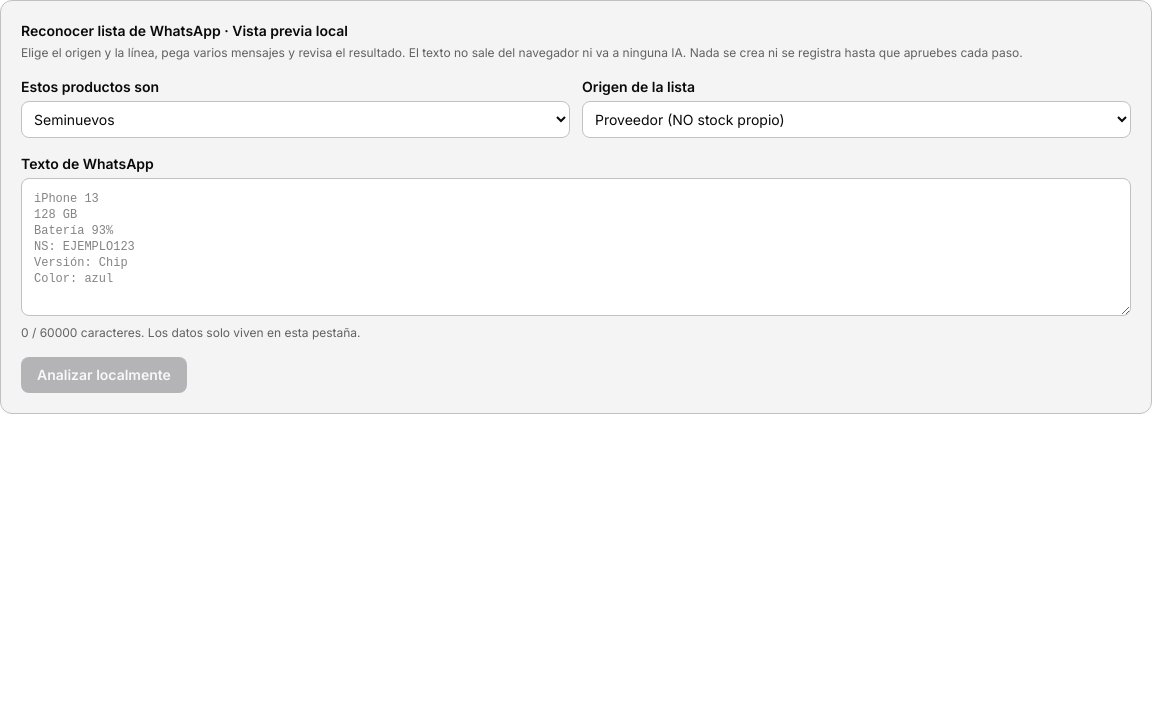
Test case: si varias coinciden, ninguna se elige sola
Select "Nuevos" in the dropdown named "Línea declarada" at [296, 120], box [21,101,570,138]
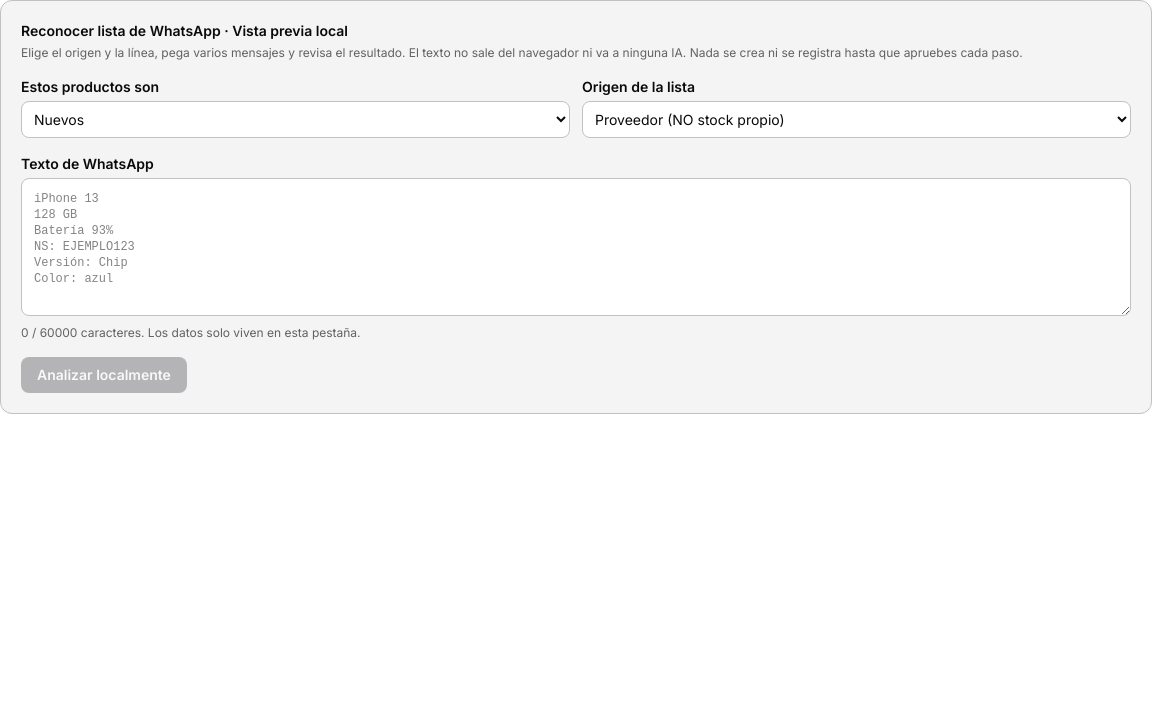
Replace the text in the text box named "Texto para reconocer" with "IPH 15 plus 128 2600" at [576, 247], box [21,178,1131,316]
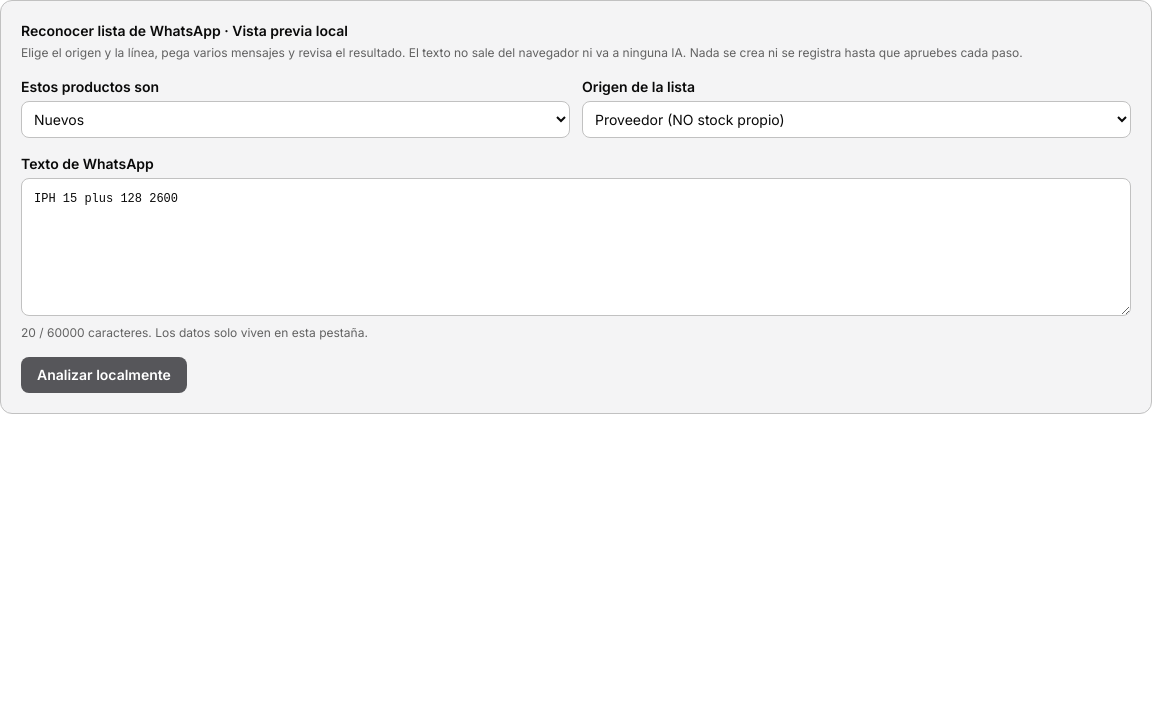
Click the button "Analizar localmente" at [104, 375], box [21,357,187,393]
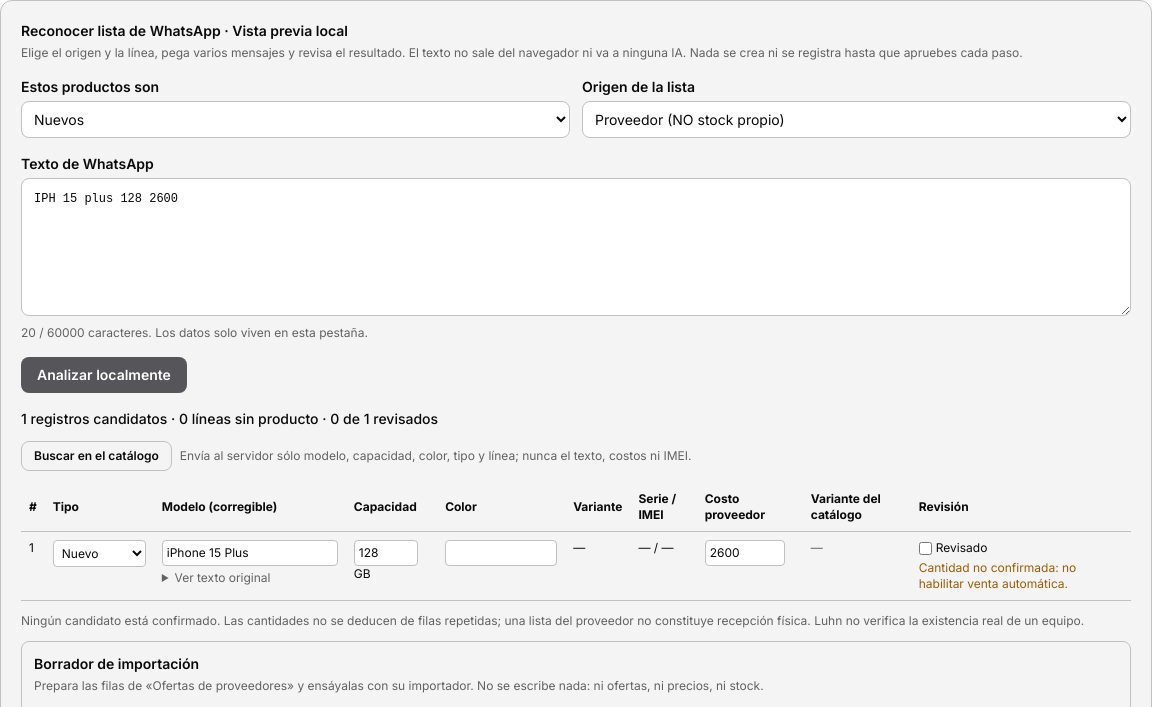
Click the button "Buscar en el catálogo" at [96, 456], box [21,441,172,471]
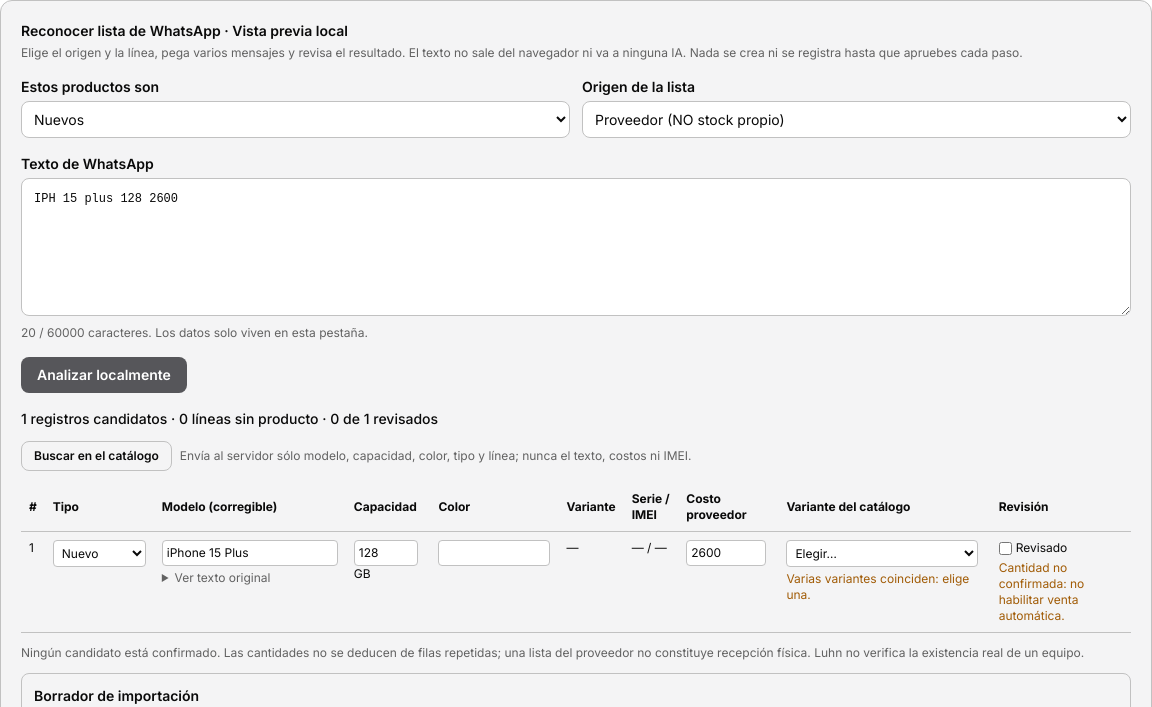
Now the dropdown named "Variante del registro 1" shows "Elegir…", box [786,540,978,567]
Now the text "Varias variantes coinciden: elige una." is shown, box [786,571,983,603]
